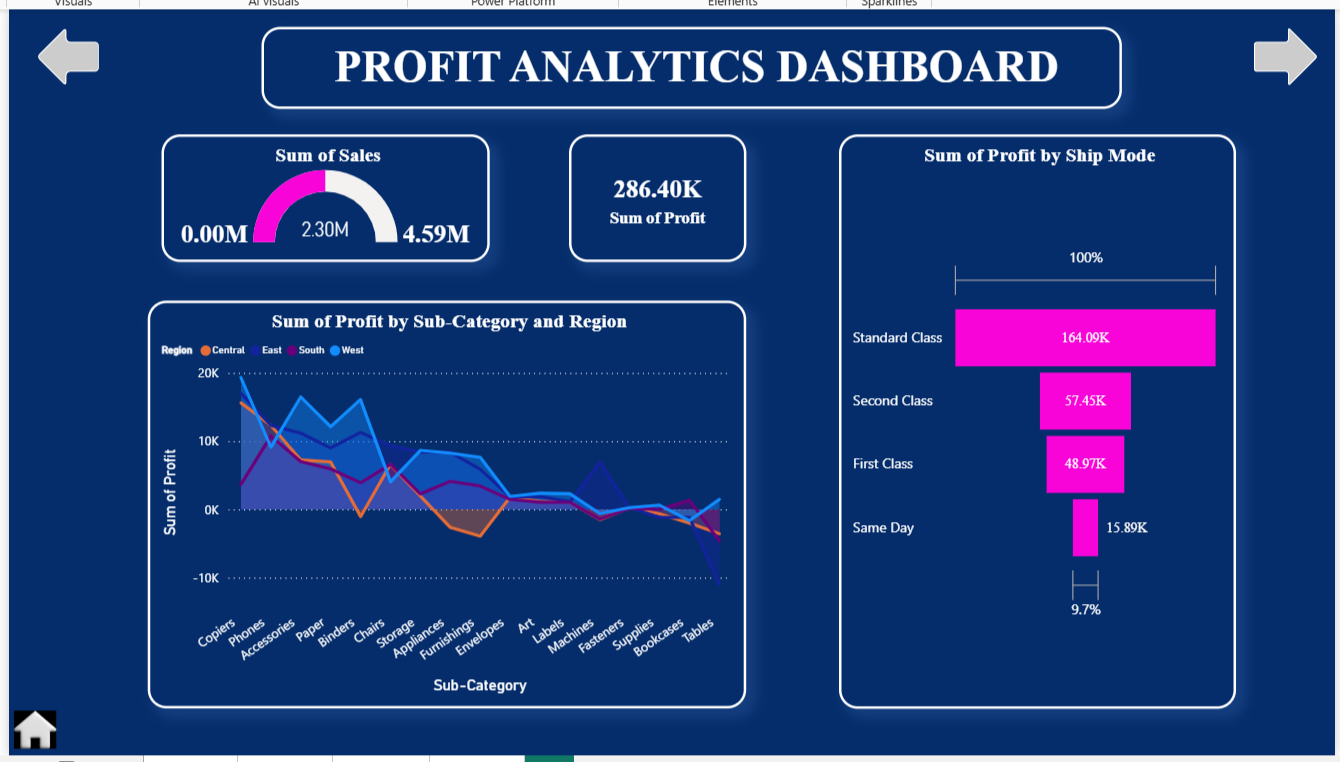

Layout of this report page (visuals, bound fields, positions):
{"tool":"powerbi","page":{"name":"Page 2","canvas":[1280,720],"ordinal":2},"visuals":[{"type":"shape","box":[1202.1,16.5,61.7,57.6],"z":0},{"type":"shape","box":[26.1,16.5,60.4,57.6],"z":1000},{"type":"image","box":[0,669.6,50.8,50.8],"z":2000},{"type":"textbox","box":[244.3,16.5,830.2,79.6],"z":3000},{"type":"areaChart","fields":{"Category":["Orders.Sub-Category"],"Series":["Orders.Region"],"Y":["Sum(Orders.Profit)"]},"box":[134.5,281.3,577.7,393.8],"z":4000},{"type":"funnel","fields":{"Category":["Orders.Ship Mode"],"Y":["Sum(Orders.Profit)"]},"box":[801.4,120.8,382.8,554.4],"z":5000},{"type":"gauge","fields":{"Y":["Sum(Orders.Sales)"]},"box":[146.8,120.8,317,123.5],"z":6000},{"type":"card","fields":{"Values":["Sum(Orders.Profit)"]},"box":[540.7,120.8,171.5,123.5],"z":7000}]}

Visuals, with their boxes in screenshot pixels (x1, y1, x2, y2):
shape: 1248 24 1312 83
shape: 34 24 96 83
image: 7 698 59 751
textbox: 259 24 1116 106
areaChart - Orders.Sub-Category x Orders.Region: 146 297 742 704
funnel - Orders.Ship Mode x Sum(Orders.Profit): 834 132 1230 704
gauge - Sum(Orders.Sales): 159 132 486 259
card - Sum(Orders.Profit): 565 132 742 259
